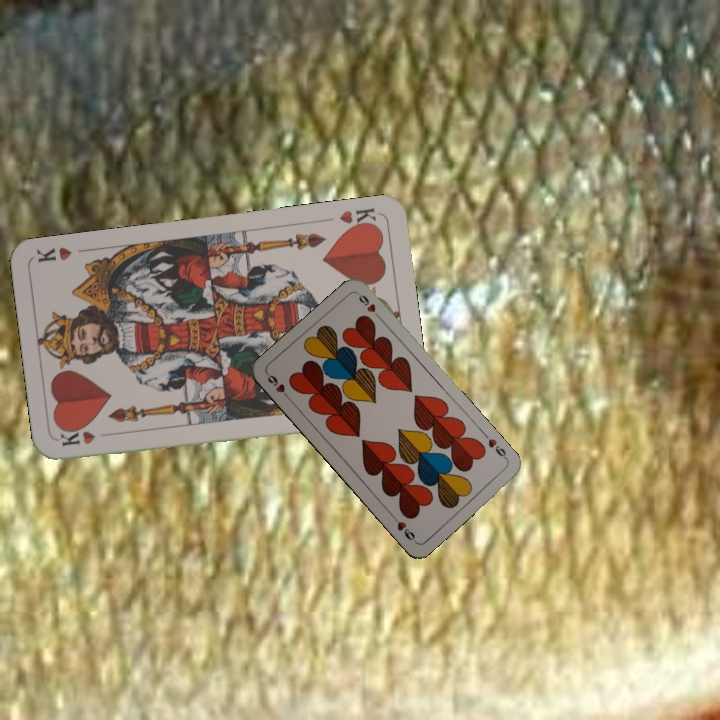H9: (263, 369, 294, 403), (480, 429, 511, 463)
HK: (335, 203, 380, 233), (56, 427, 98, 449)
